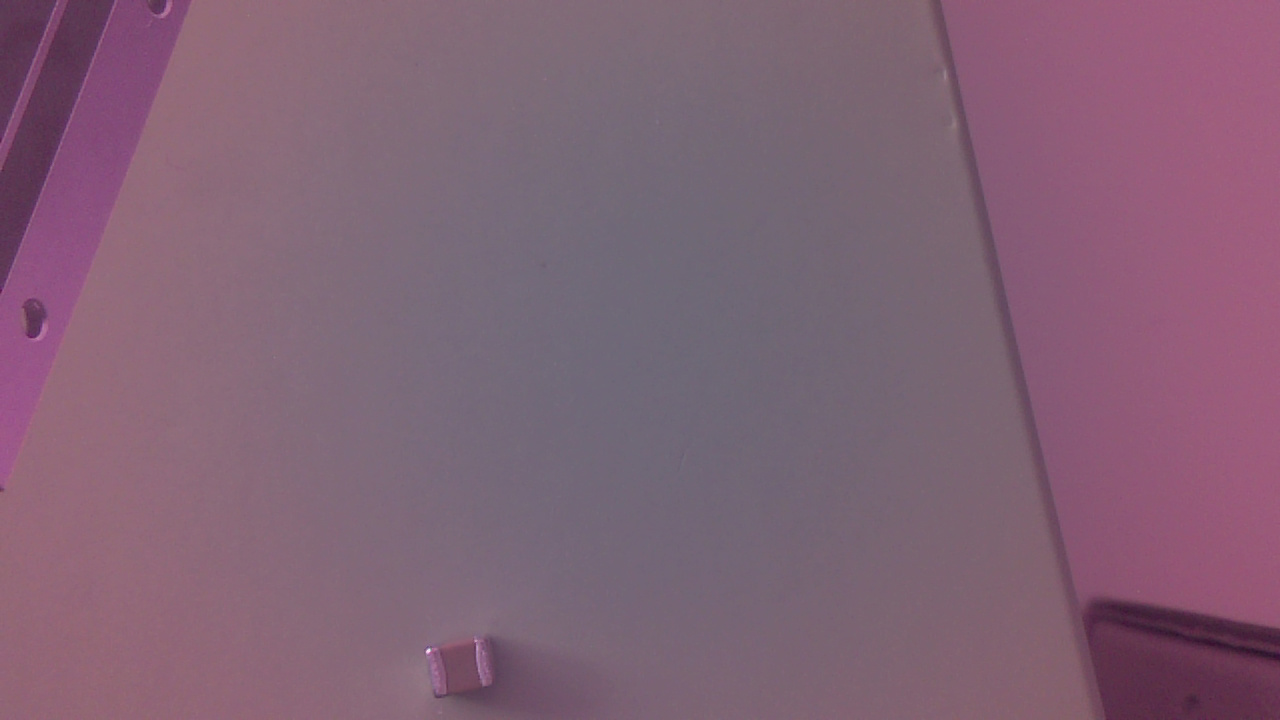Condensator: (426, 636, 508, 705)
